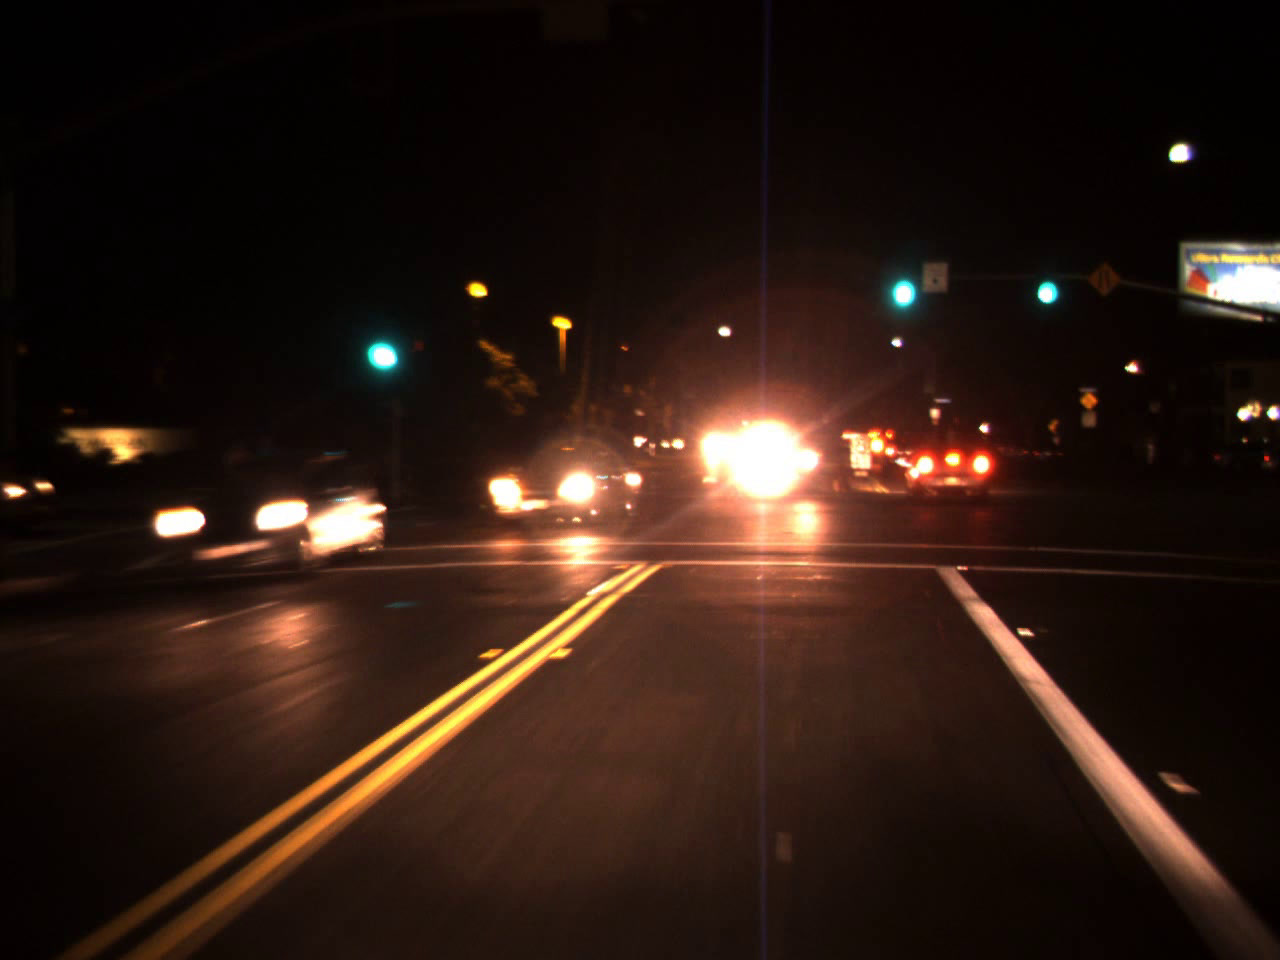go: (353, 304, 405, 382), (882, 243, 921, 318), (1028, 253, 1062, 313)
